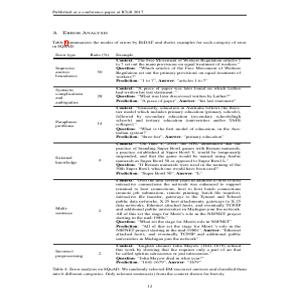table: (46, 51, 257, 266)
text: (46, 31, 249, 49)
